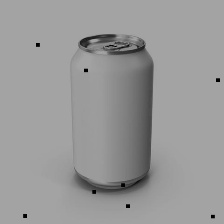can: (64, 26, 158, 196)
